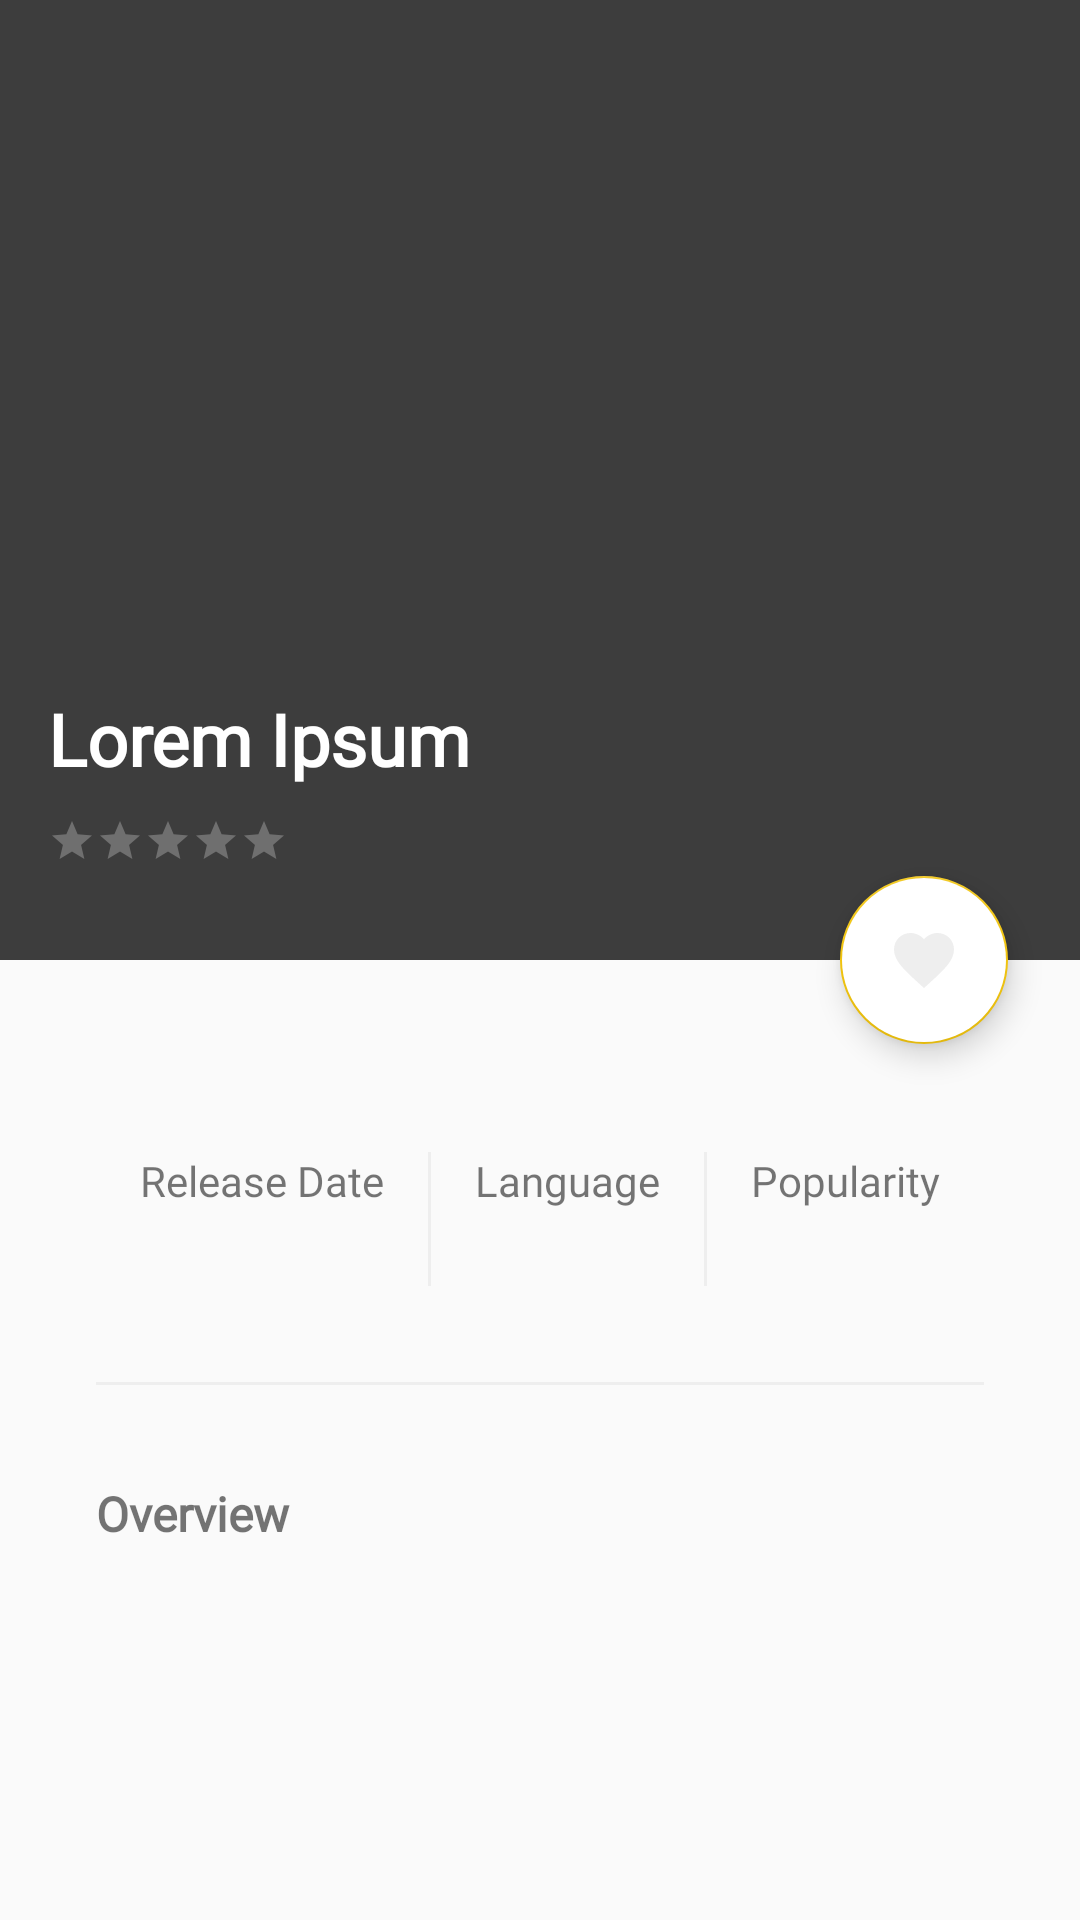

Named icons in this screenshot (1080 × 1920) and their centers, (x=x, y=y):
favourite: (x=924, y=960)
